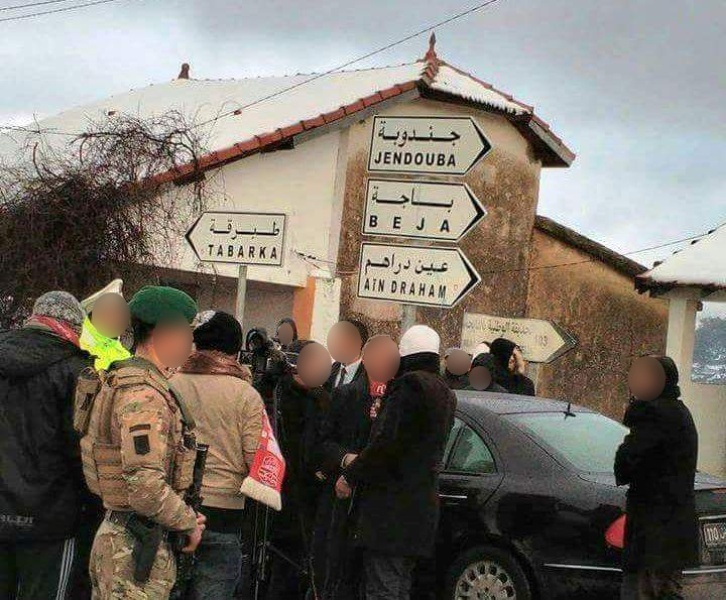text: (385, 119, 400, 148), (401, 119, 416, 148), (417, 119, 432, 148), (433, 119, 448, 148), (385, 185, 400, 213), (401, 185, 416, 213), (417, 185, 432, 213), (433, 185, 448, 213), (369, 254, 384, 278), (385, 254, 400, 278), (225, 218, 240, 241), (241, 218, 256, 241), (257, 218, 272, 241), (401, 280, 416, 302), (417, 280, 432, 302), (433, 280, 448, 302), (449, 119, 460, 148), (373, 185, 384, 213), (369, 213, 384, 233), (385, 213, 400, 233), (401, 213, 416, 233), (417, 213, 432, 233), (433, 213, 448, 233), (211, 218, 224, 241), (513, 321, 528, 339), (497, 319, 511, 338), (433, 260, 448, 277), (385, 151, 400, 168), (401, 151, 416, 168), (417, 151, 432, 168), (433, 151, 448, 168), (401, 254, 411, 278), (209, 245, 224, 261), (225, 245, 240, 261), (241, 245, 256, 261), (257, 245, 272, 261), (418, 260, 432, 277), (369, 278, 384, 292), (465, 317, 480, 331), (449, 185, 456, 213), (392, 280, 400, 302), (378, 119, 384, 148), (487, 319, 496, 338), (273, 218, 280, 241), (376, 151, 384, 168), (449, 151, 457, 168), (535, 334, 544, 347), (273, 245, 279, 261), (481, 317, 487, 331), (529, 321, 532, 339), (545, 334, 549, 347), (366, 278, 368, 292), (385, 278, 387, 292), (367, 254, 368, 278), (449, 213, 450, 233)
